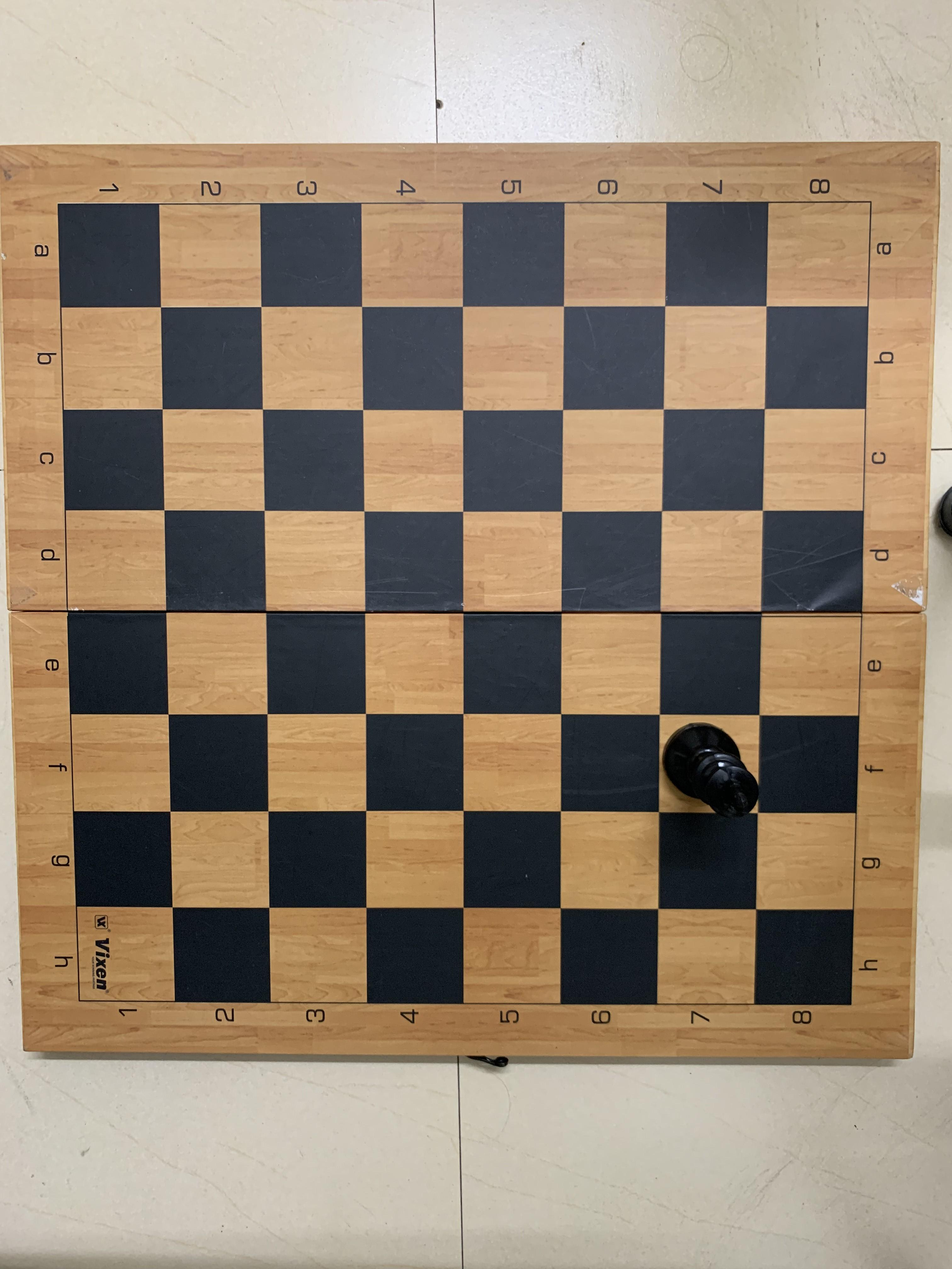black_king: (658, 712, 761, 827)
